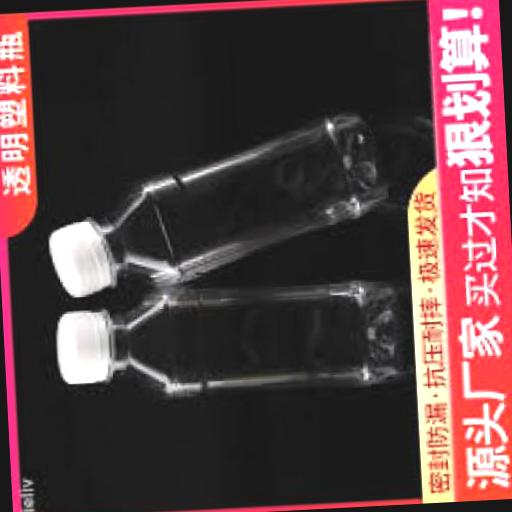plastic: (38, 112, 388, 300), (52, 277, 403, 407), (43, 219, 118, 300), (53, 310, 111, 388)
